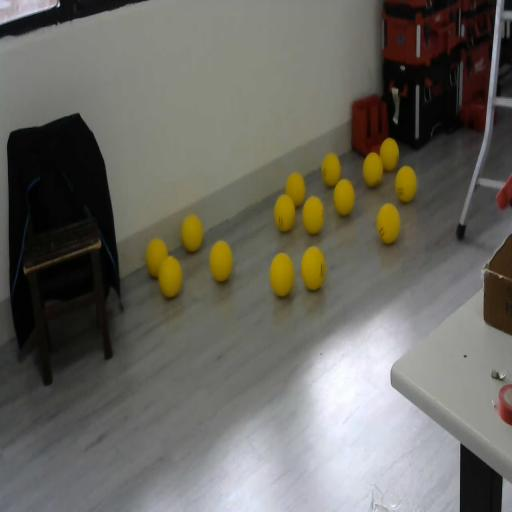FUEL: (268, 251, 294, 297), (300, 246, 326, 292), (208, 238, 234, 283), (157, 254, 183, 298), (376, 202, 400, 245), (333, 178, 356, 218), (180, 212, 203, 252), (302, 195, 324, 235), (362, 150, 384, 188), (395, 165, 417, 203), (274, 194, 295, 233), (285, 170, 306, 208), (378, 136, 400, 171), (322, 152, 341, 187)
